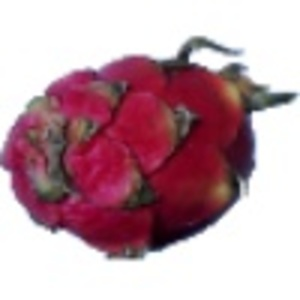pitaia: (1, 37, 300, 263)
